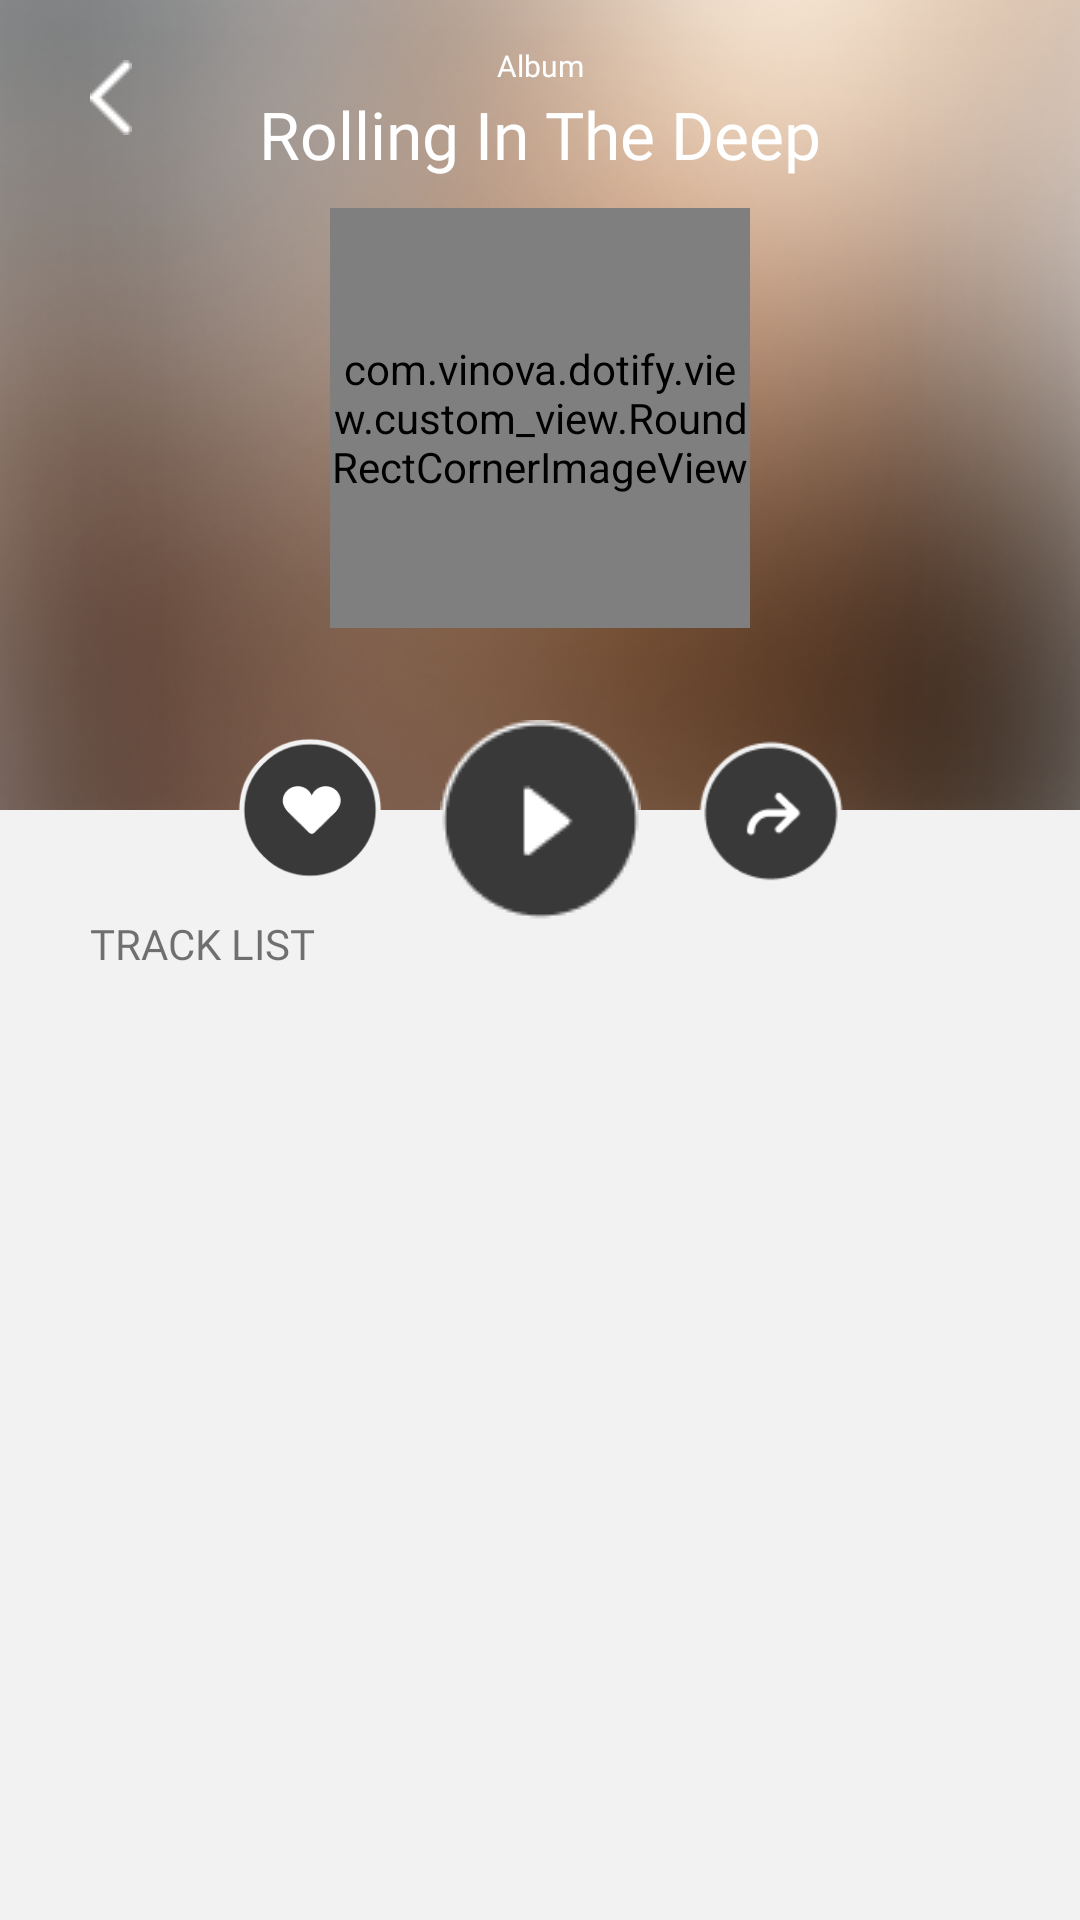

Screen size 1080×1920. Icon name, then its center in pixels as point (x, y):
arrow back: point (111, 97)
heart song: point (310, 810)
play: point (540, 820)
share music: point (771, 810)
